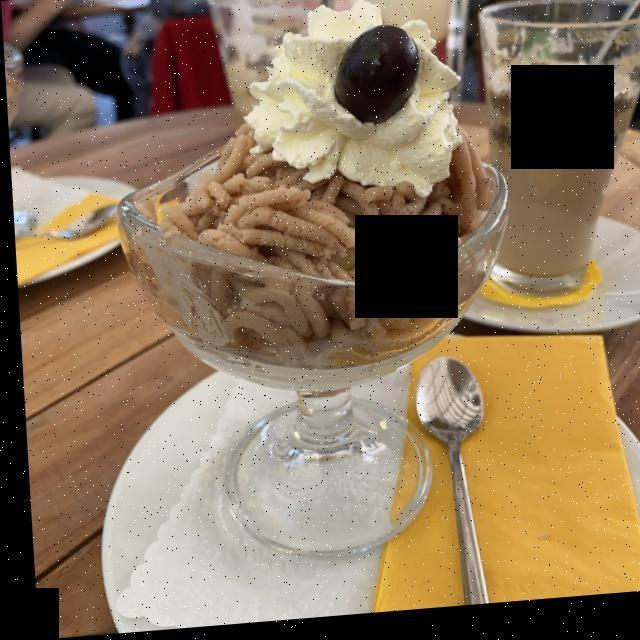cream: (247, 23, 453, 193)
